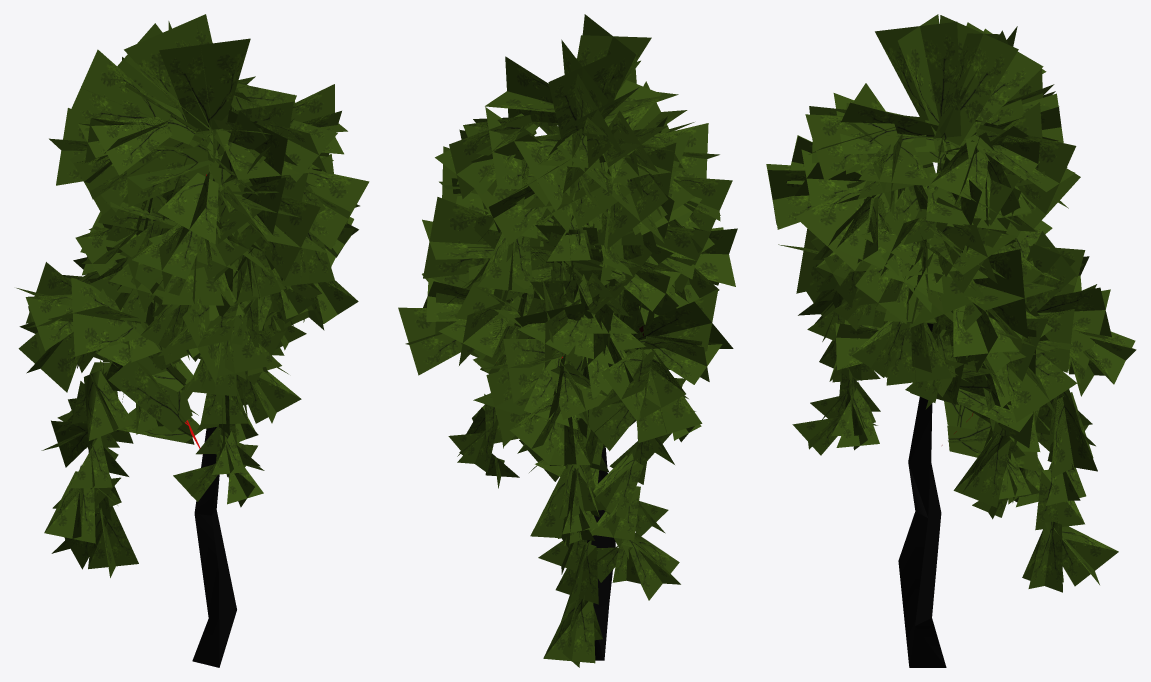
File: birch 3 lod1.FBX
3 renders of one model, left to right at view 1: azimuth 30°, elevation 25°; view 2: azimuth 150°, elevation 25°; view 3: azimuth 270°, elevation 25°, orthographic. The views are drawn at different scales.
Parts seen in each view (by area): view 1: birch3_LOD1; view 2: birch3_LOD1; view 3: birch3_LOD1.
Part boxes in pixels (left/top/right/bottom): birch3_LOD1: left=16, top=14, right=369, bottom=667; birch3_LOD1: left=398, top=14, right=737, bottom=667; birch3_LOD1: left=766, top=14, right=1136, bottom=667.
Bounding box in the file's own units: 59392 × 122248 × 63506.
